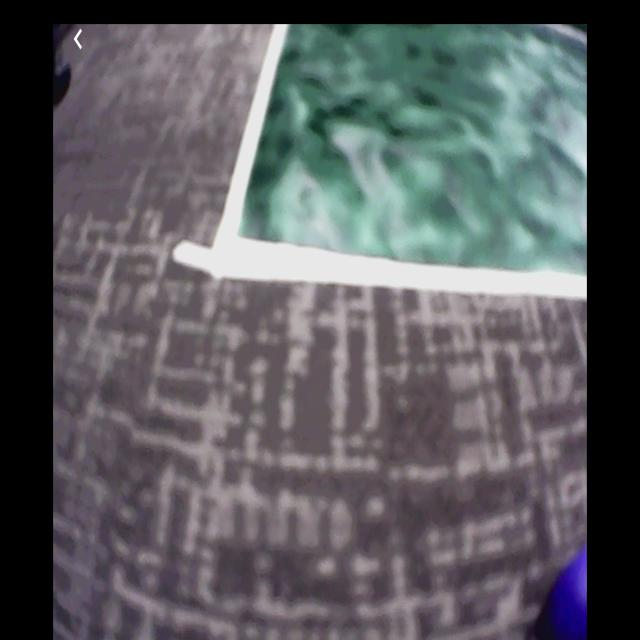ball: (549, 559, 588, 640)
